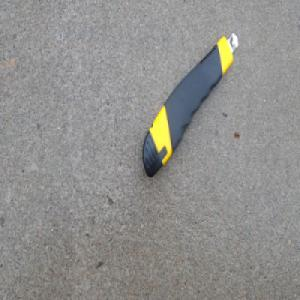Cutter: (140, 31, 238, 181)
